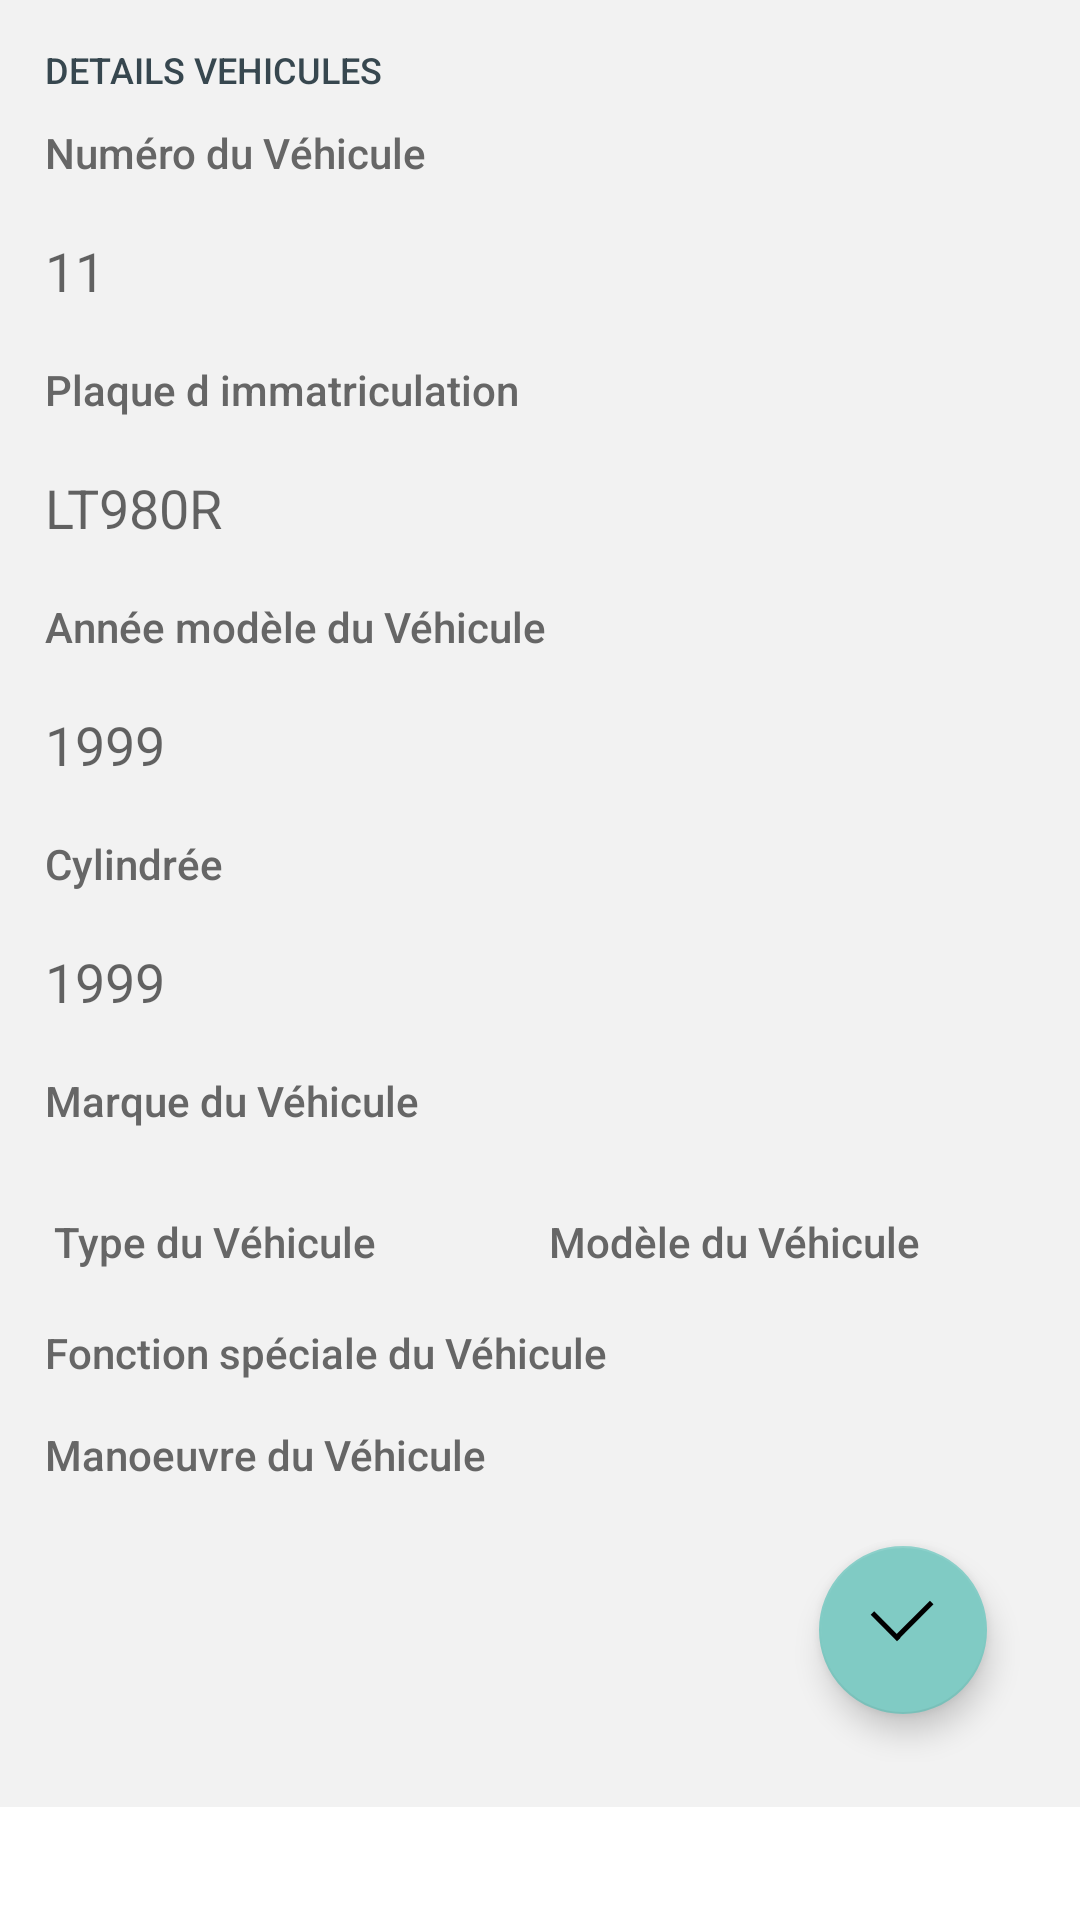

Icon bounding boxes for this 1080px x 1920px phone screenshot, format [x1=x1, y1=y1, x2=x2, y2=y2]:
check: [x1=819, y1=1546, x2=987, y2=1714]
